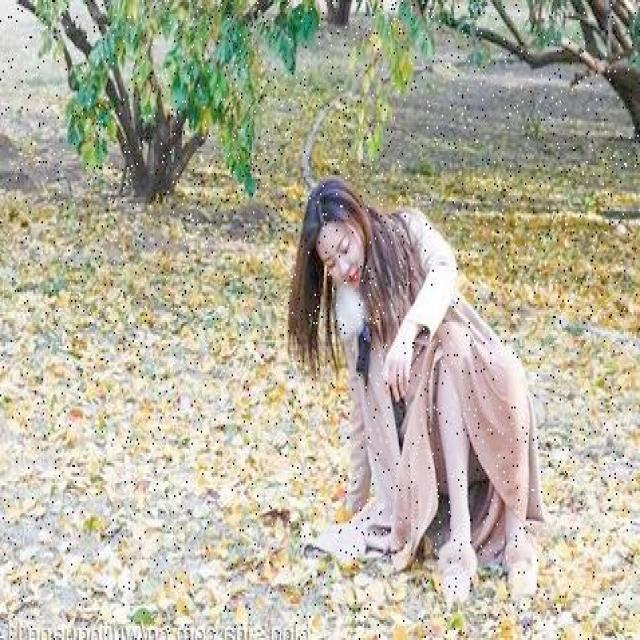fall: (302, 183, 534, 590)
